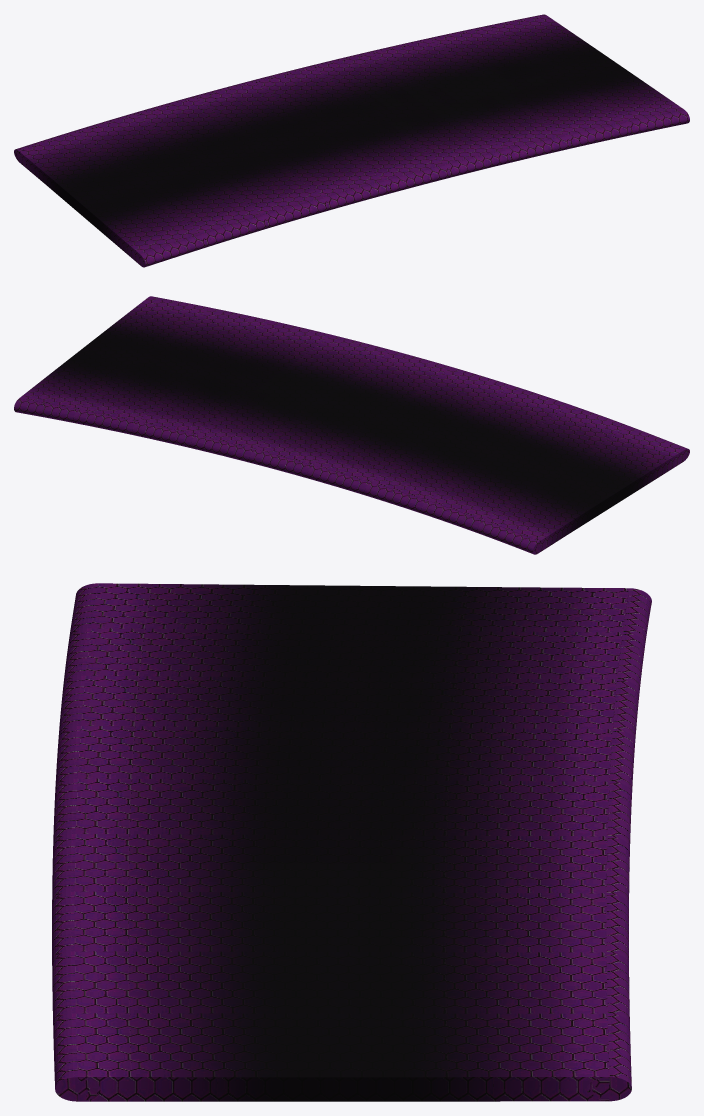
File: level-02-track-07b.glb
3 renders of one model, top to bottom at view 1: azimuth 30°, elevation 25°; view 2: azimuth 150°, elevation 25°; view 3: azimuth 270°, elevation 25°, orthographic. The views are drawn at different scales.
Visible parts, largest first — view 1: track-07b; view 2: track-07b; view 3: track-07b.
Part boxes in pixels (x1,y1,x2,y2): track-07b: [14, 14, 689, 267]; track-07b: [14, 296, 689, 554]; track-07b: [52, 583, 651, 1101].
Bounding box in the file's own units: 18.05 × 1.07 × 8.69.
Materials: 2 (2 with a texture image).
